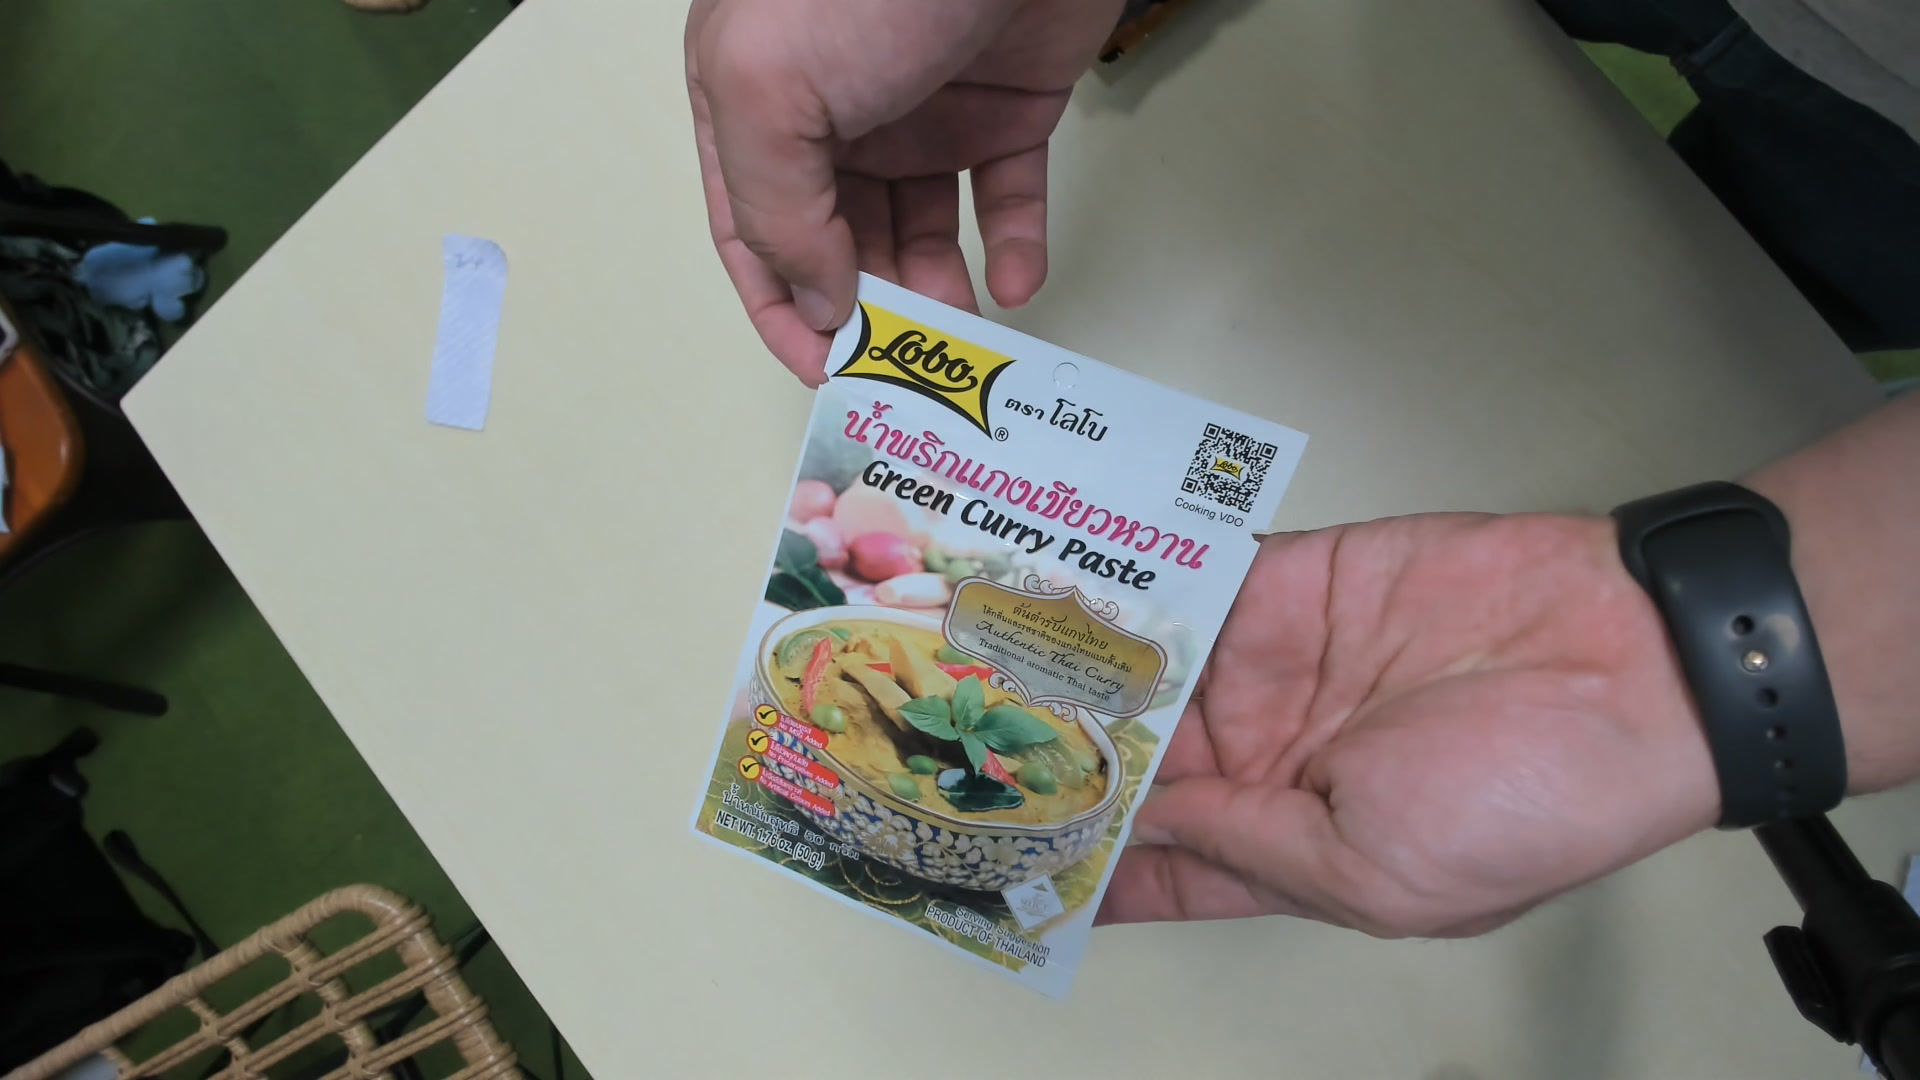OtherSauceDressing_0-99g_Halal_NonHealthy: (696, 270, 1313, 1007)
